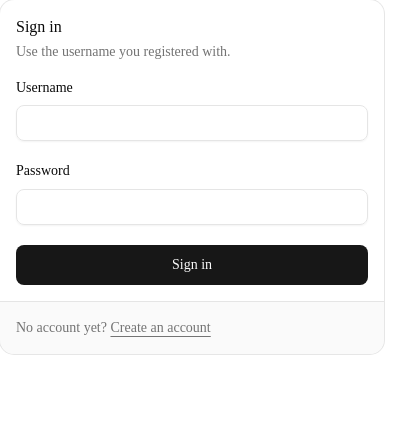
LoginForm › shows the credential error and stays put when the server returns 401
In the field labelled "Username": (192, 123) [16,105,368,141], type "ada"
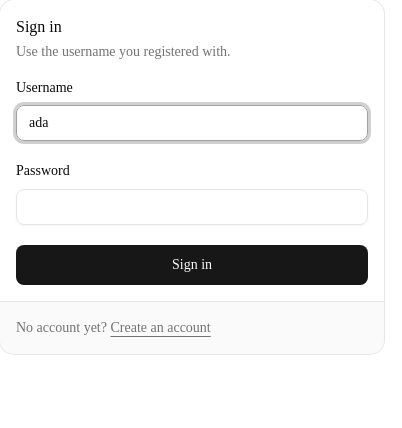
In the password field labelled "Password": (192, 206) [16,188,368,224], type "wrong password"
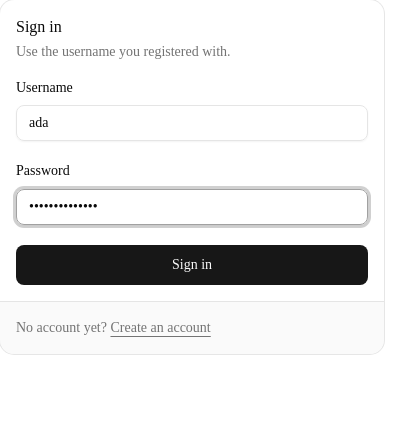
Click the button "Sign in": (192, 264) [16,244,368,284]
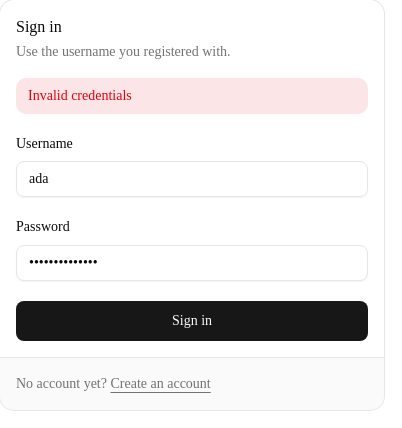
Result: the message reads "Invalid credentials" at [28,88,132,103]
